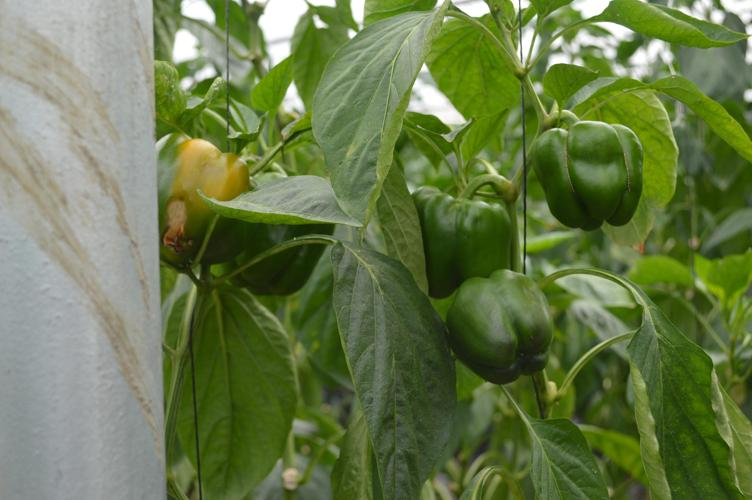BellPepper: (391, 179, 523, 309), (154, 126, 252, 292), (532, 115, 652, 244), (444, 273, 559, 391), (232, 182, 332, 307)
